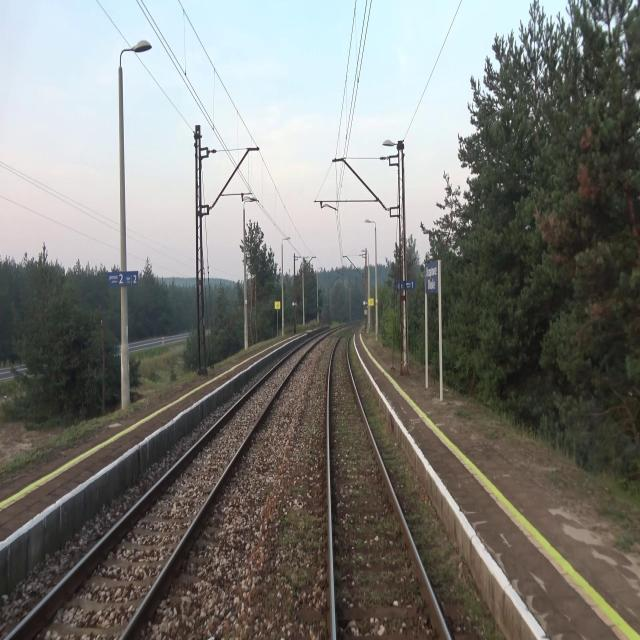rail-track: (11, 339, 315, 639), (330, 330, 446, 639)
